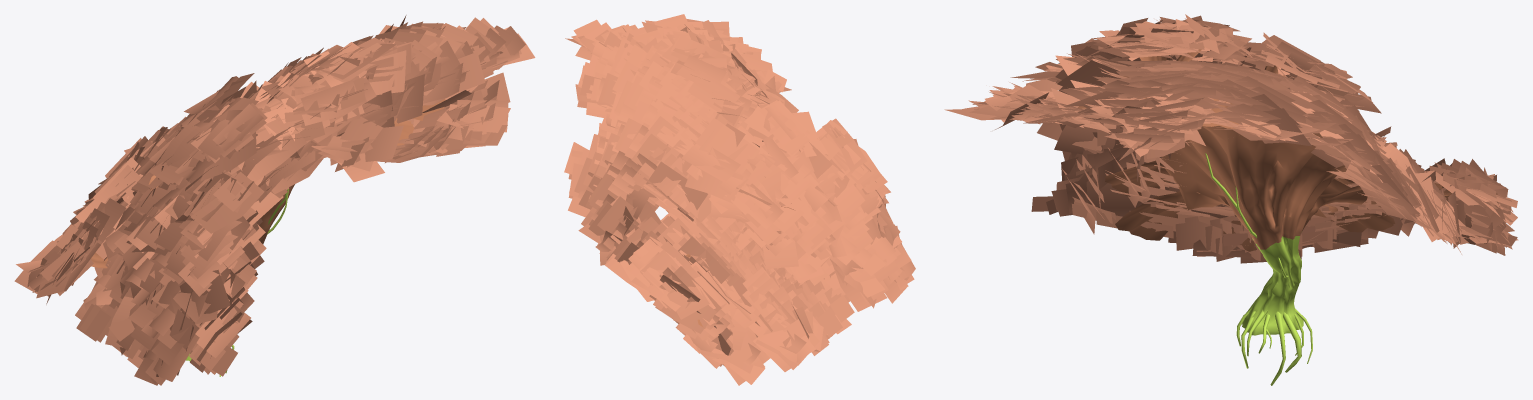
File: savTreeCypress.fbx
3 views of the same model, side by side, from view 1: azimuth 30°, elevation 25°; view 2: azimuth 150°, elevation 25°; view 3: azimuth 270°, elevation 25° (orthographic). The views are drawn at different scales.
Parts seen in each view (by area): view 1: savTreeCypressLeaf_LOD0, savTreeCypress_LOD0; view 2: savTreeCypressLeaf_LOD0; view 3: savTreeCypressLeaf_LOD0, savTreeCypress_LOD0.
Boxes of the visible parts, box(x1,y1,x2,y2) form: savTreeCypressLeaf_LOD0: box(14, 15, 535, 385); savTreeCypress_LOD0: box(91, 70, 445, 376); savTreeCypressLeaf_LOD0: box(564, 14, 915, 385); savTreeCypressLeaf_LOD0: box(944, 14, 1518, 263); savTreeCypress_LOD0: box(1070, 47, 1497, 385).
Size of what is drawn, in the model's own units: 3307 by 2704 by 3295.
